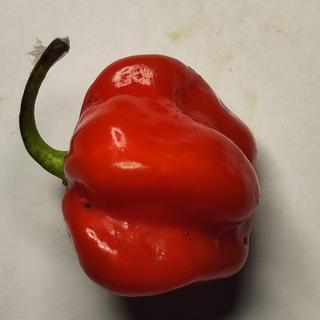Fly-bites: (79, 194, 98, 213)
